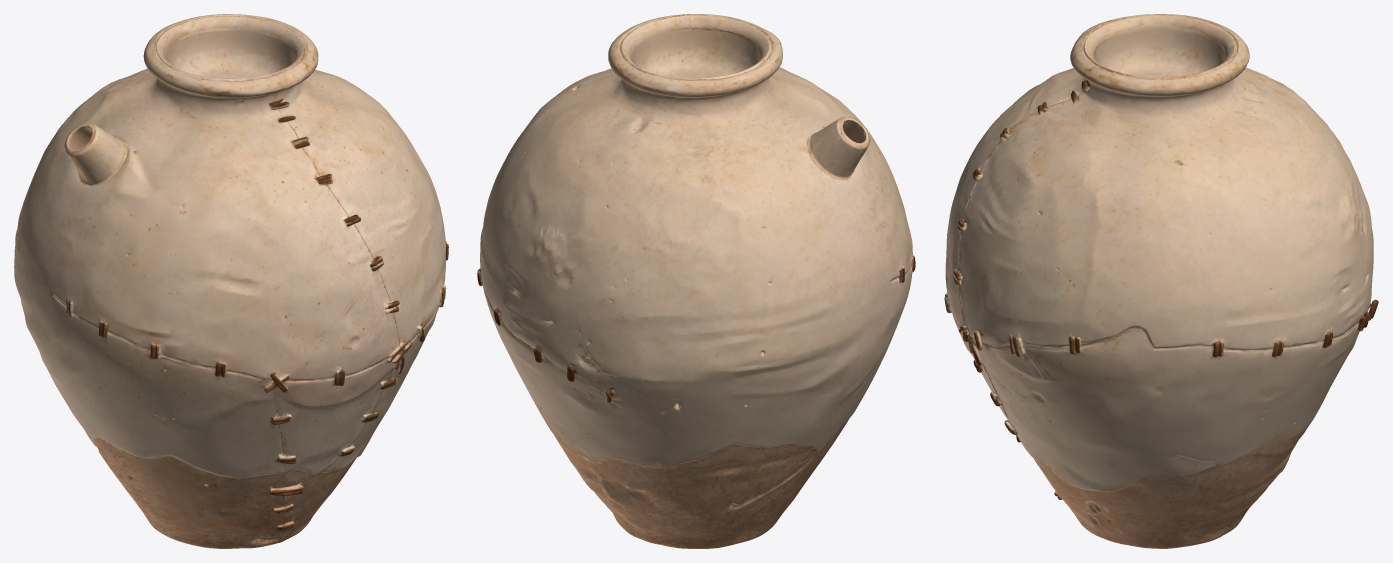
File: assets__models__staple-1.glb
The picture shows the model from 3 angles, left to right: view 1: azimuth 30°, elevation 25°; view 2: azimuth 150°, elevation 25°; view 3: azimuth 270°, elevation 25°; orthographic projection.
Parts seen in each view (by area): view 1: tripo_node_caa9fb9e-a296-466a-aadc-7ca4f625e103.001; view 2: tripo_node_caa9fb9e-a296-466a-aadc-7ca4f625e103.001; view 3: tripo_node_caa9fb9e-a296-466a-aadc-7ca4f625e103.001.
Boxes of the visible parts, left/top/right/bottom form: tripo_node_caa9fb9e-a296-466a-aadc-7ca4f625e103.001: left=14, top=14, right=448, bottom=548; tripo_node_caa9fb9e-a296-466a-aadc-7ca4f625e103.001: left=477, top=14, right=915, bottom=548; tripo_node_caa9fb9e-a296-466a-aadc-7ca4f625e103.001: left=944, top=14, right=1378, bottom=548.
Size of the model in its own units: 0.8154 by 0.9807 by 0.8194.
1 material, 1 textured.
